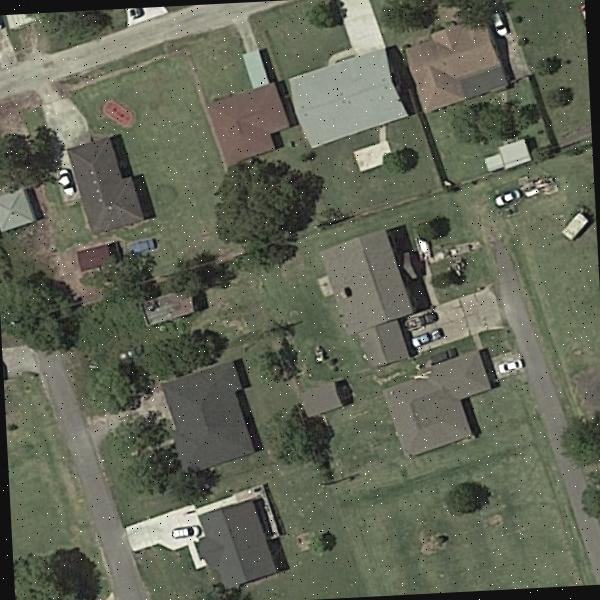Buildings: (379, 354, 505, 456), (324, 234, 422, 364), (302, 50, 402, 143), (168, 370, 253, 467), (414, 27, 501, 113), (214, 56, 281, 156), (200, 502, 272, 589), (82, 143, 138, 236), (0, 188, 42, 235), (307, 386, 347, 410)
